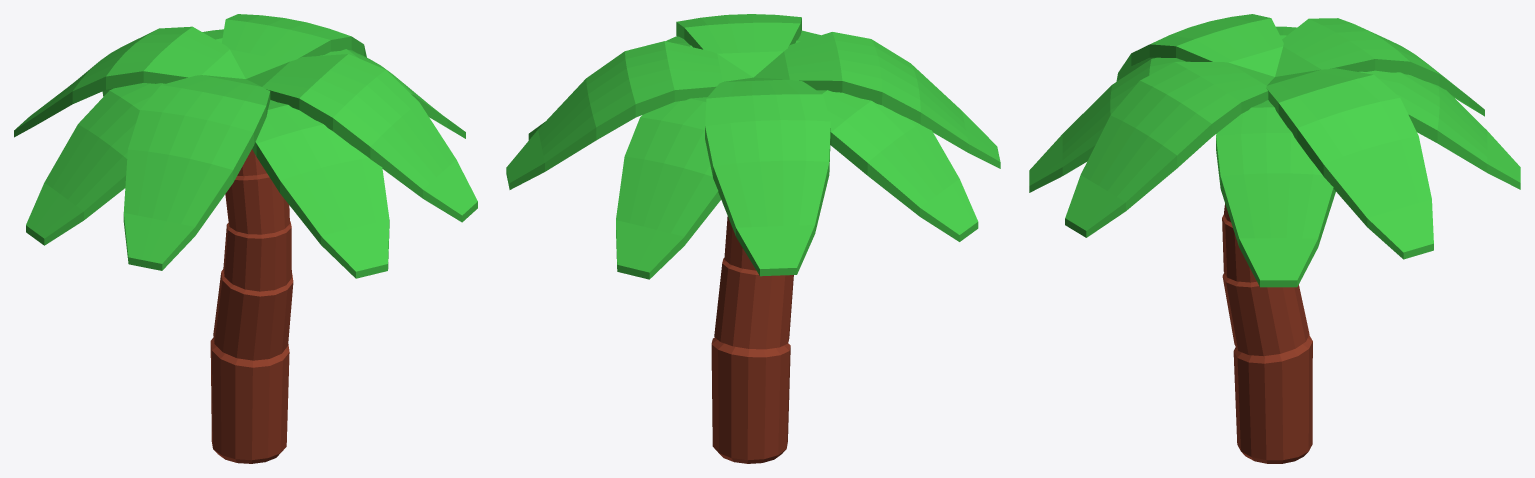
Rendered from boom0.fbx.
3 renders of one model, left to right at view 1: azimuth 30°, elevation 25°; view 2: azimuth 150°, elevation 25°; view 3: azimuth 270°, elevation 25°, orthographic.
Parts seen in each view (by area): view 1: Cube.008; view 2: Cube.008; view 3: Cube.008.
Boxes of the visible parts, box(x1,y1,x2,y2) form: Cube.008: box(14, 14, 477, 463); Cube.008: box(506, 14, 1000, 463); Cube.008: box(1029, 14, 1520, 463).
Size of the model in its own units: 12.94 by 11.34 by 12.94.
